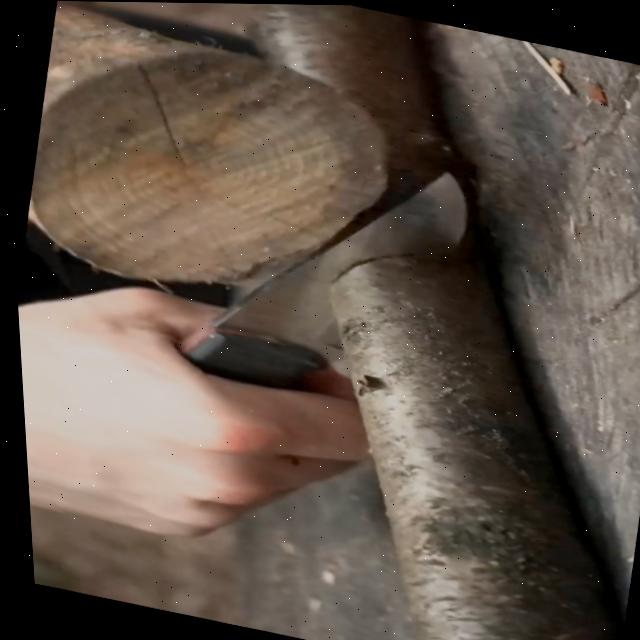knife: (142, 118, 530, 431)
